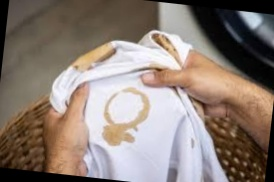coffee: (100, 119, 140, 149), (138, 93, 152, 125), (103, 90, 117, 121)
